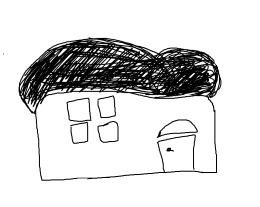door: (153, 116, 204, 180)
open_window: (62, 92, 95, 123), (66, 119, 92, 147), (94, 91, 118, 121), (95, 120, 122, 144)
shaded_roof: (13, 27, 227, 115)
wall: (21, 83, 226, 185)
